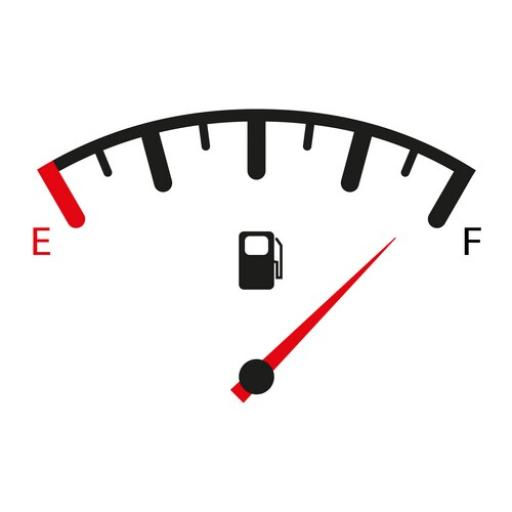empty: (26, 222, 54, 258)
fuel_icon: (235, 226, 284, 292)
full: (462, 225, 482, 260)
guage_area: (22, 108, 482, 413)
needle_center: (230, 356, 282, 400)
needle_tip: (370, 232, 406, 276)
